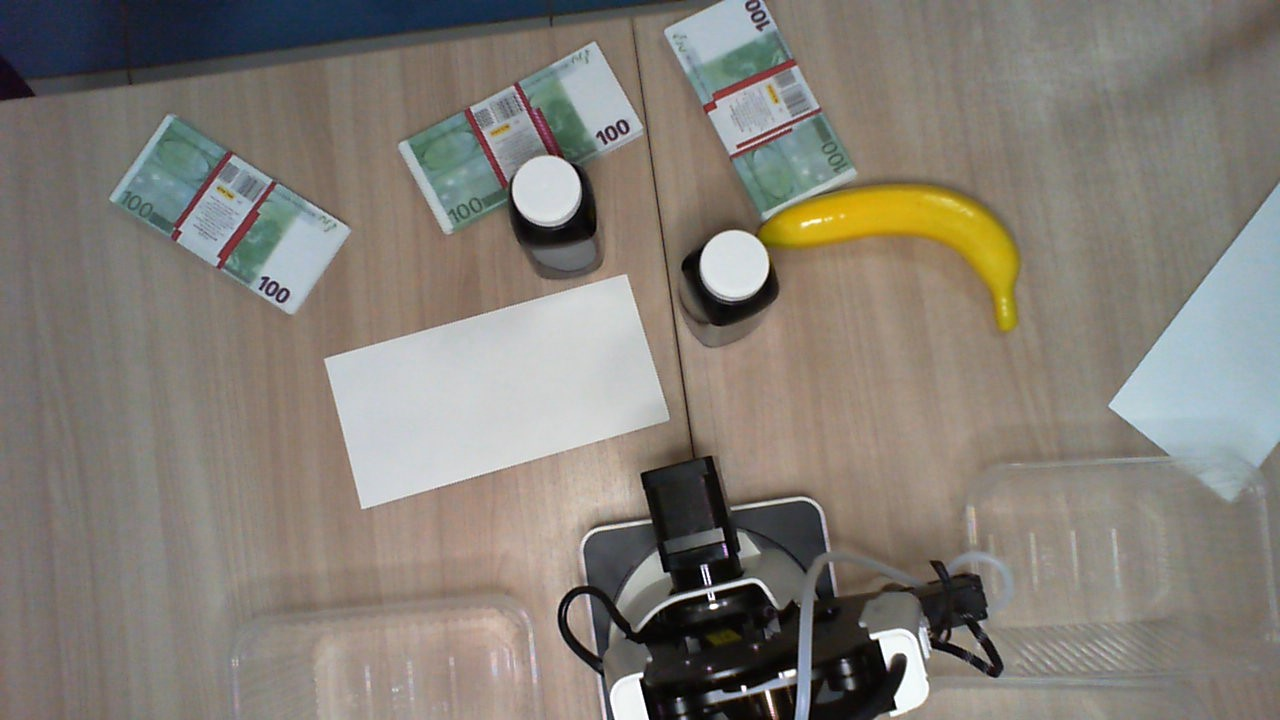banana: (757, 183, 1020, 333)
bottle: (686, 230, 780, 321), (510, 160, 603, 245)
convert: (322, 272, 668, 513), (1104, 188, 1280, 501)
money: (108, 113, 352, 315), (399, 39, 649, 233), (663, 1, 858, 220)
